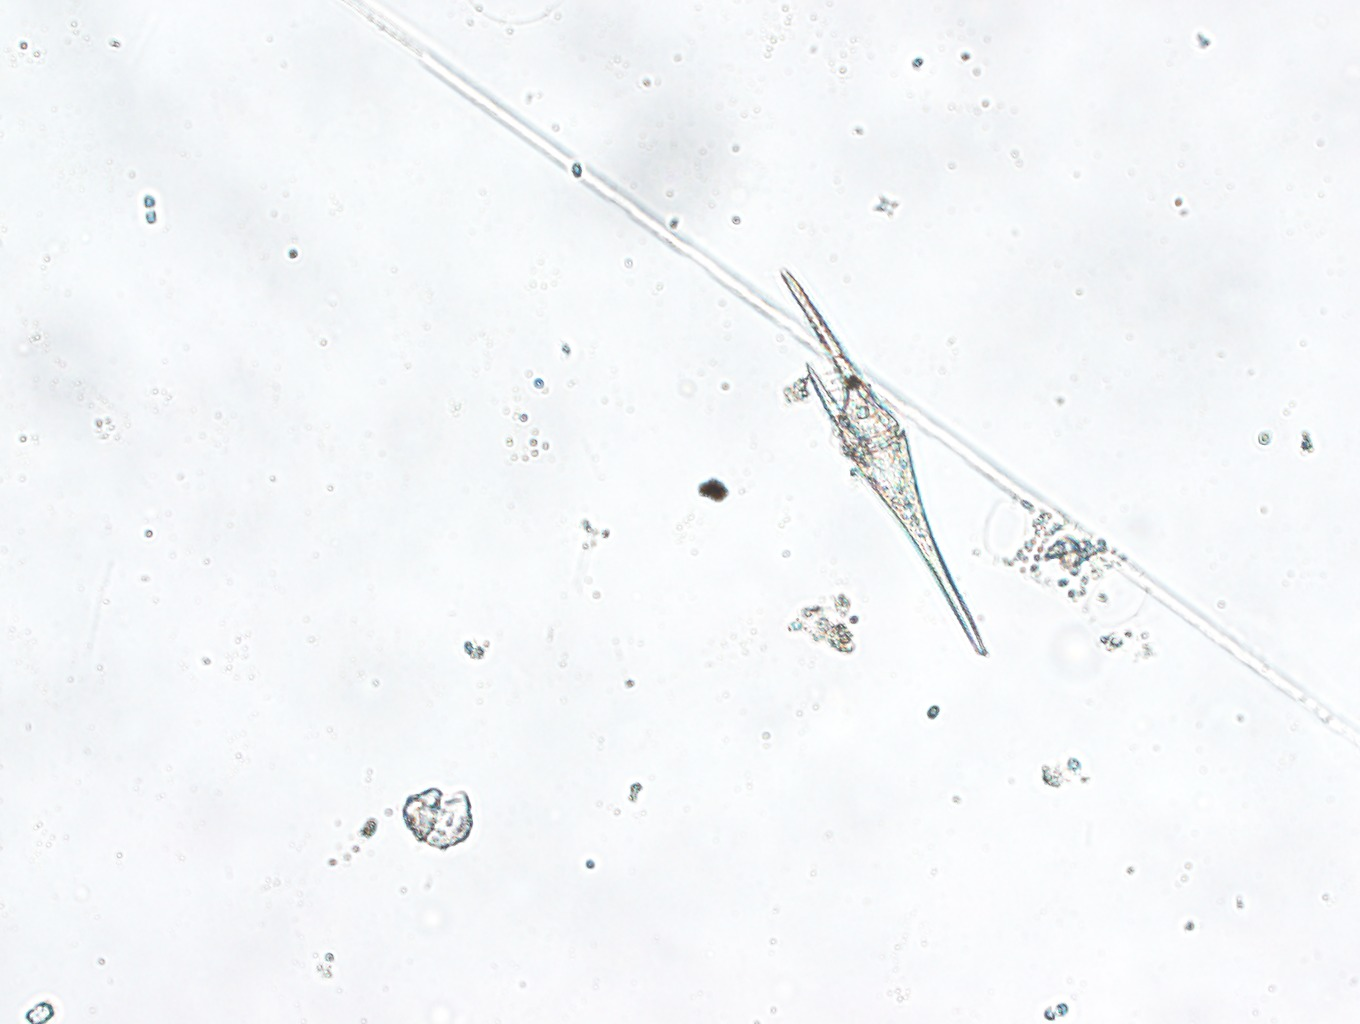ceratium furca: (777, 266, 987, 660)
